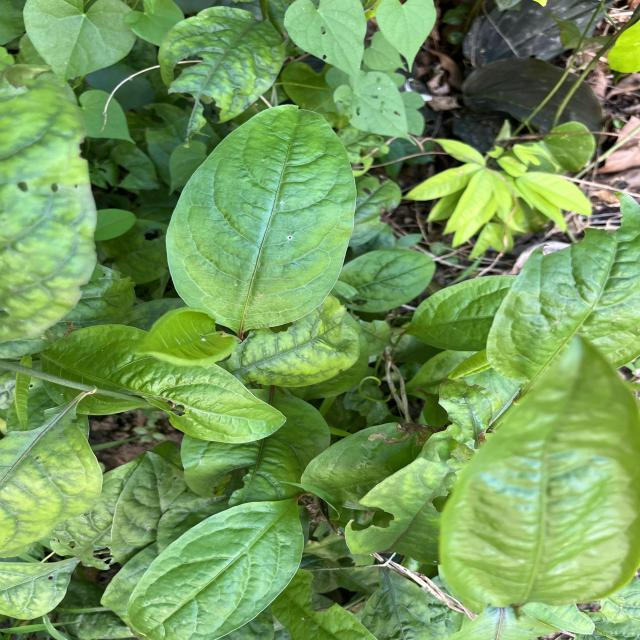Plumbago indica: (155, 99, 364, 333), (117, 495, 316, 640)
